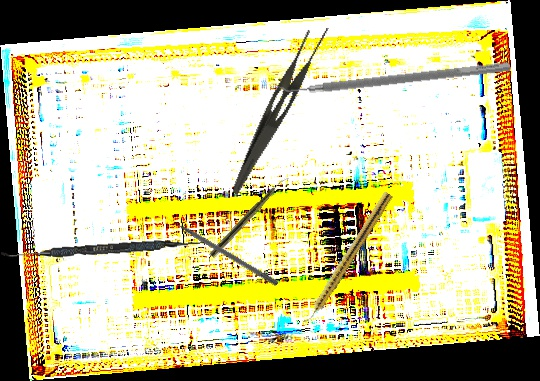Dressing Forceps: (229, 15, 333, 205)
Handpiece: (300, 189, 394, 328), (208, 172, 291, 260)
Pusher: (162, 212, 280, 287)
Spatula Surgical: (274, 51, 511, 101), (0, 234, 205, 264)
